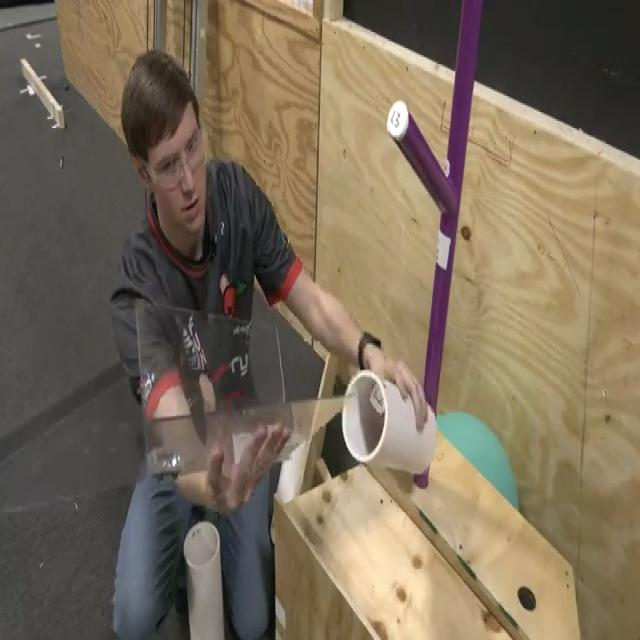Coral: (340, 366, 437, 476), (184, 521, 225, 640)
